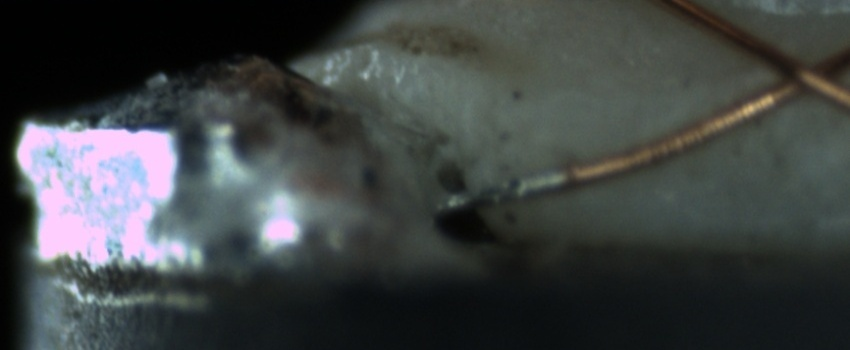CL: (746, 34, 846, 111)
TS: (433, 166, 567, 212)
